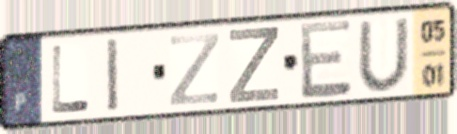E: (297, 16, 355, 103)
I: (104, 35, 122, 116)
L: (49, 42, 92, 116)
U: (355, 15, 412, 95)
Z: (226, 25, 282, 107), (167, 30, 223, 109)
